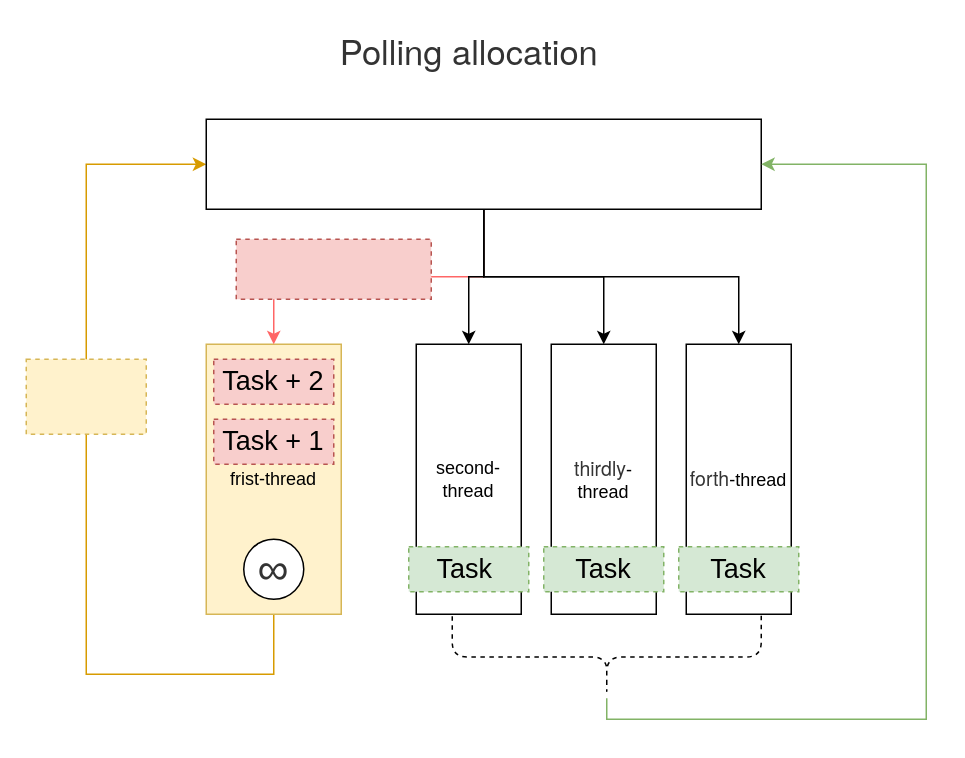
Image size: 965x758. Some labels were removed from this diagram. Here are the shapes that lost their labels. From the top down, the centre of each, then its label:
At pixel 483 163: "Master".
At pixel 333 268: "Program blocking".
At pixel 85 396: "Running 20/1000".
